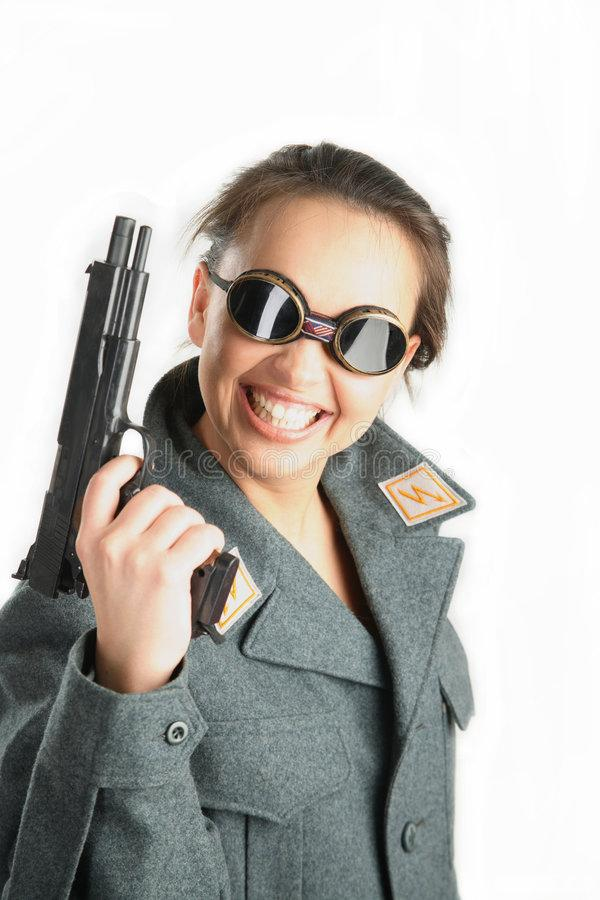criminal: (0, 136, 476, 900)
weapon: (13, 208, 244, 644)
